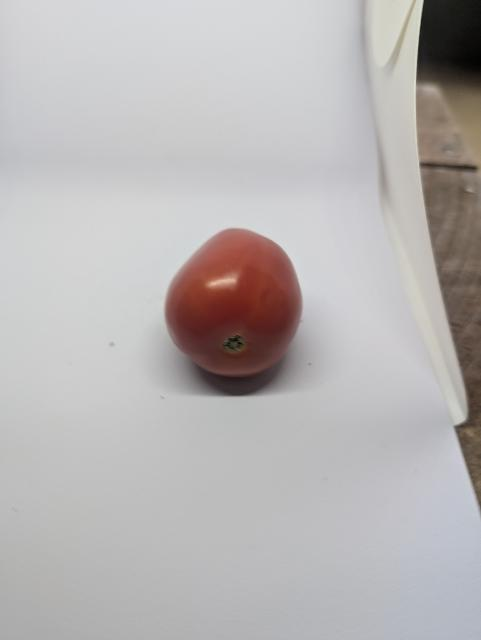red: (156, 227, 312, 399)
